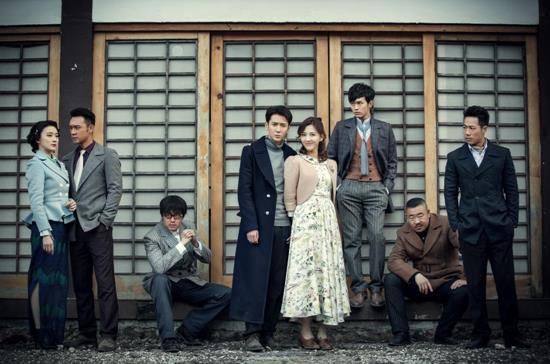bending: (138, 195, 231, 356), (379, 196, 467, 345)
up: (445, 105, 527, 350), (60, 106, 127, 351), (329, 83, 399, 309), (236, 104, 293, 348), (286, 117, 344, 351), (18, 120, 71, 347)
